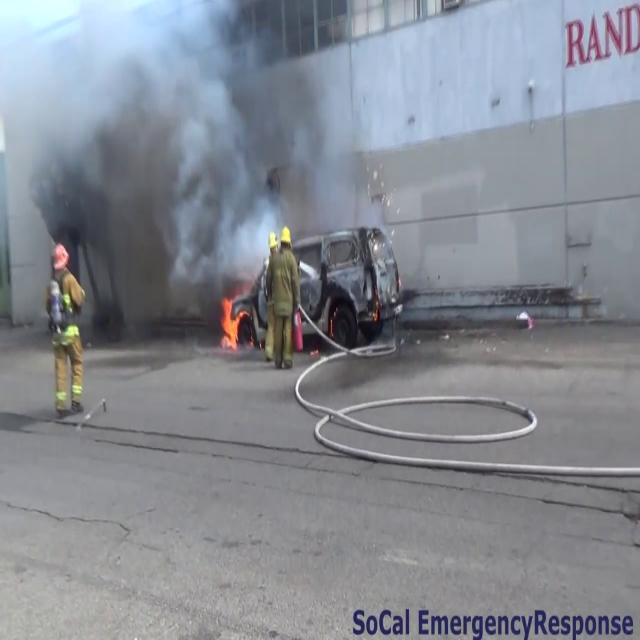Fire: (219, 288, 249, 354)
Smoke: (0, 0, 384, 322)
